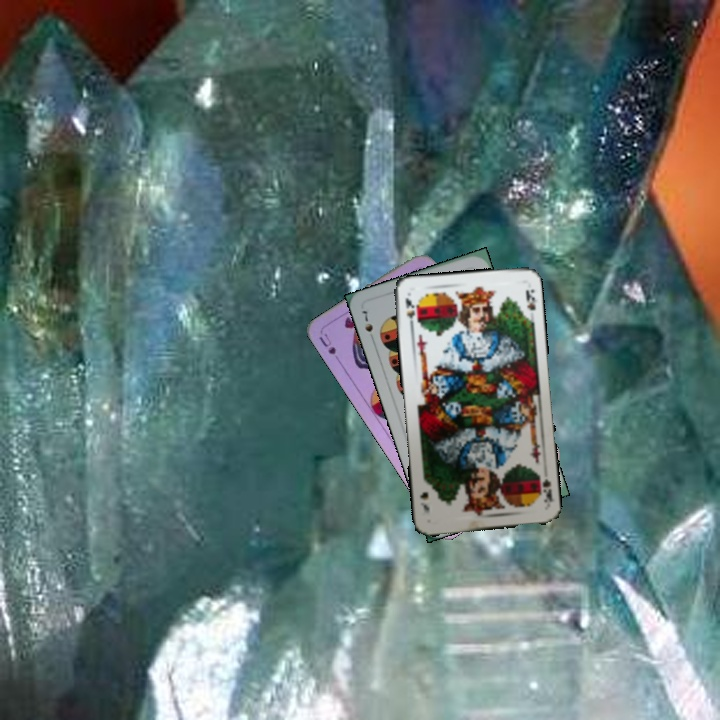S7: (358, 306, 377, 345)
SK: (534, 469, 556, 505), (401, 294, 417, 332)
SU: (315, 329, 339, 357)
